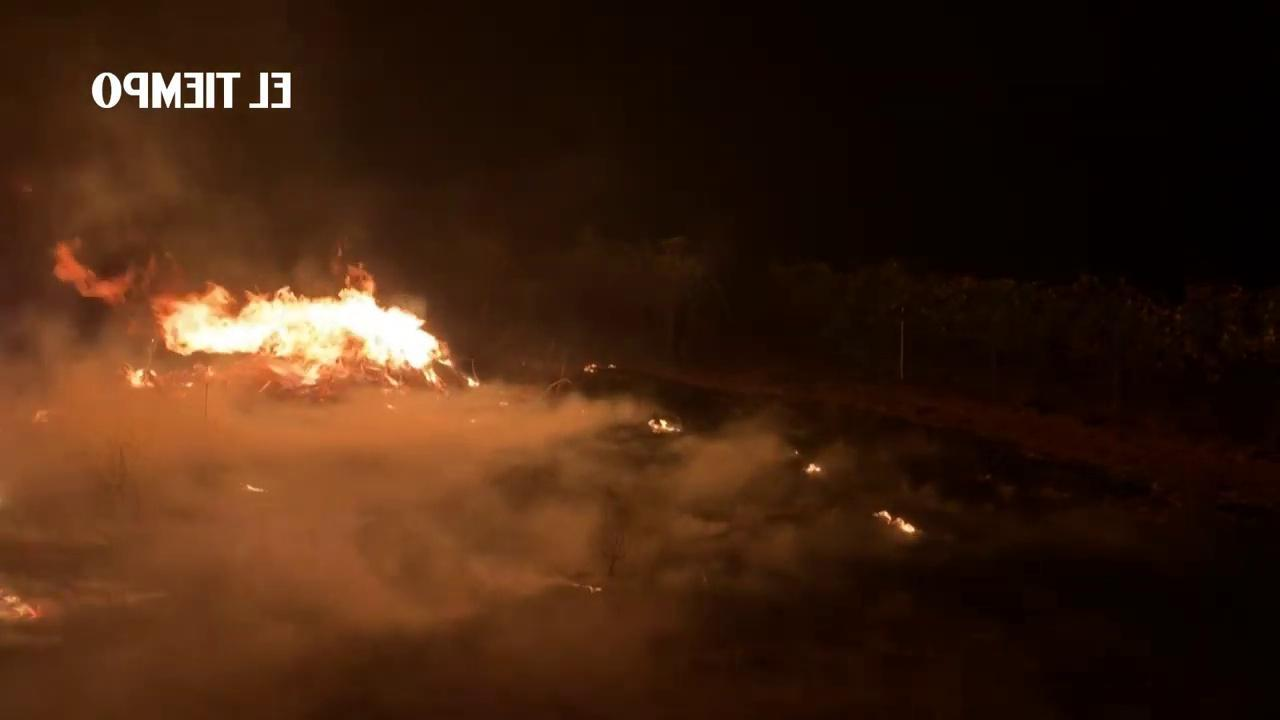Fire: (51, 239, 466, 391), (4, 586, 45, 624), (872, 508, 916, 535), (646, 417, 683, 434), (583, 358, 600, 374), (808, 462, 825, 475), (467, 377, 481, 390)
